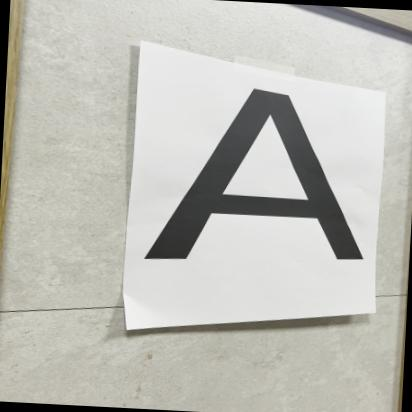seat: (139, 80, 386, 278)
